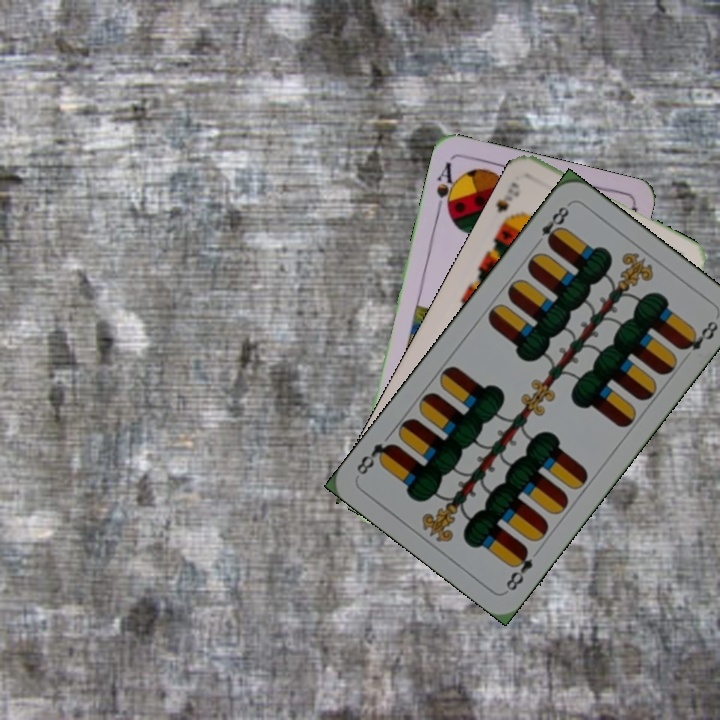E8: (530, 200, 573, 250), (501, 542, 536, 594)
S9: (492, 177, 523, 231)
SA: (432, 158, 461, 218)
